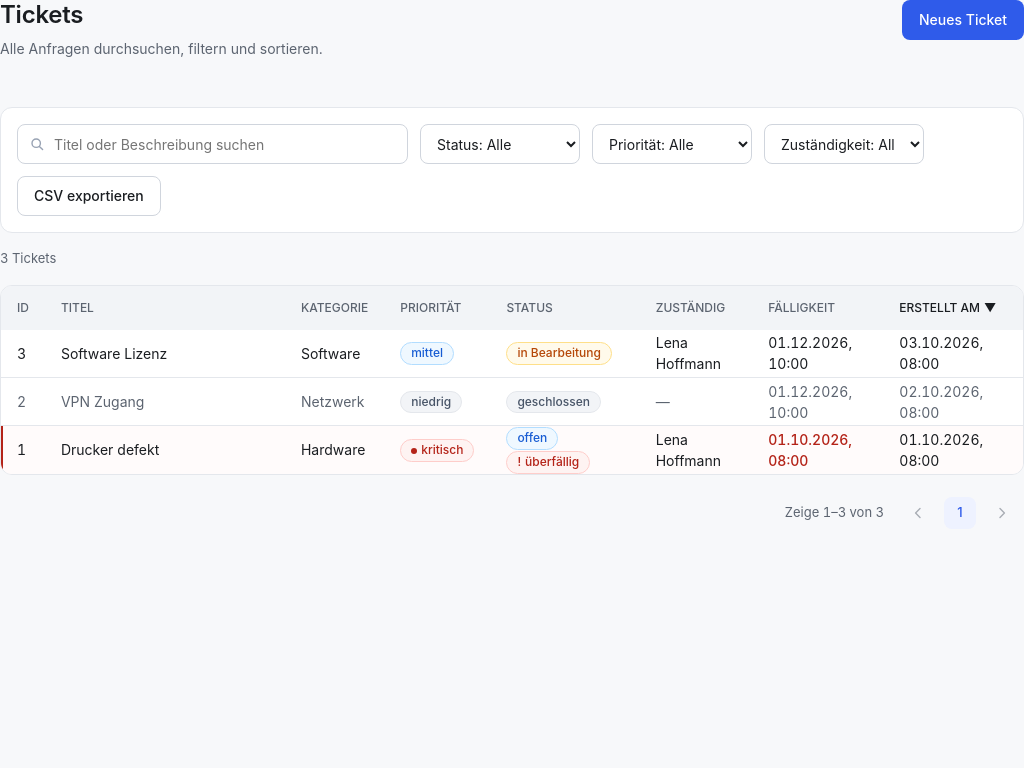
Test case: TicketsPage › validates the create form only after it was submitted
Expected: the text "Drucker defekt" is shown, [45,426,285,474]
Click the button "Neues Ticket" at {"x": 963, "y": 20}, box [902,0,1023,40]
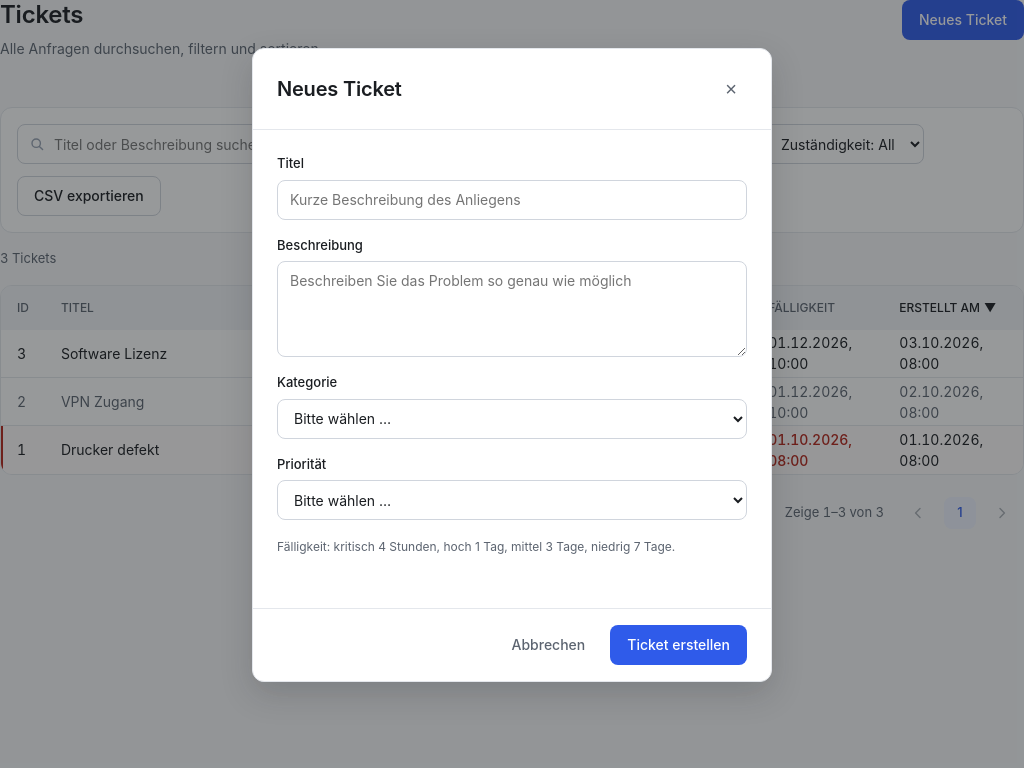
Expected: the text "Bitte geben Sie einen Titel ein." is not shown
Click the button "Ticket erstellen" at {"x": 679, "y": 645}, box [610,625,747,665]
(page scrolled)
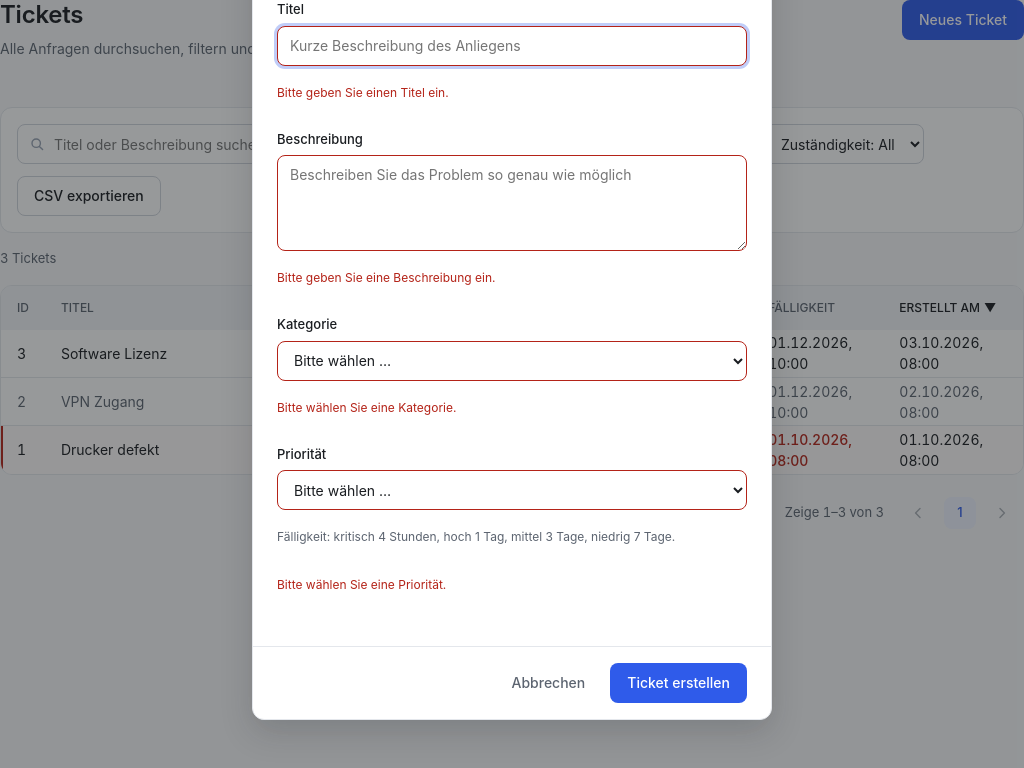
Now the text "Bitte geben Sie einen Titel ein." is shown, box [277,84,449,100]
Now the text "Bitte geben Sie eine Beschreibung ein." is shown, box [277,270,495,285]
Now the text "Bitte wählen Sie eine Kategorie." is shown, box [277,400,456,414]
